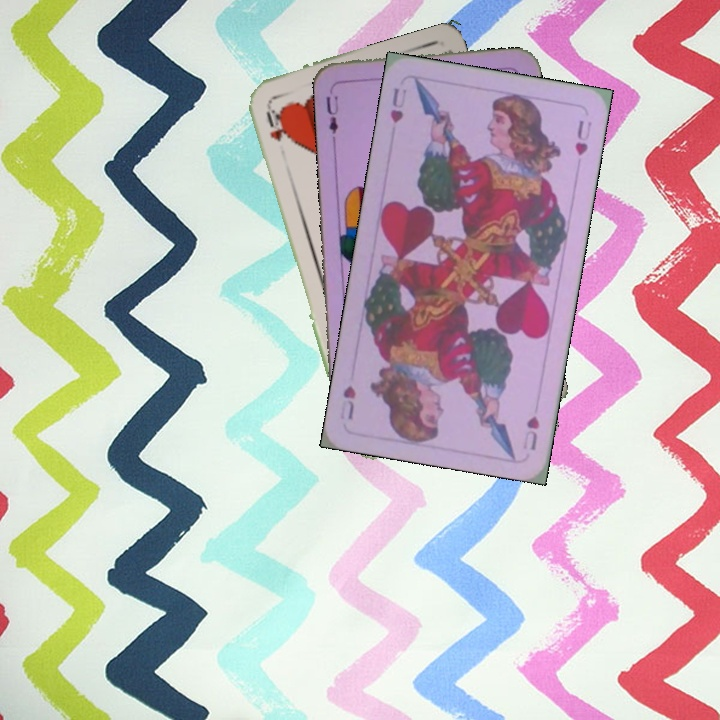EU: (322, 81, 341, 141)
HO: (262, 100, 291, 145)
HU: (518, 411, 542, 453), (386, 83, 409, 125)
